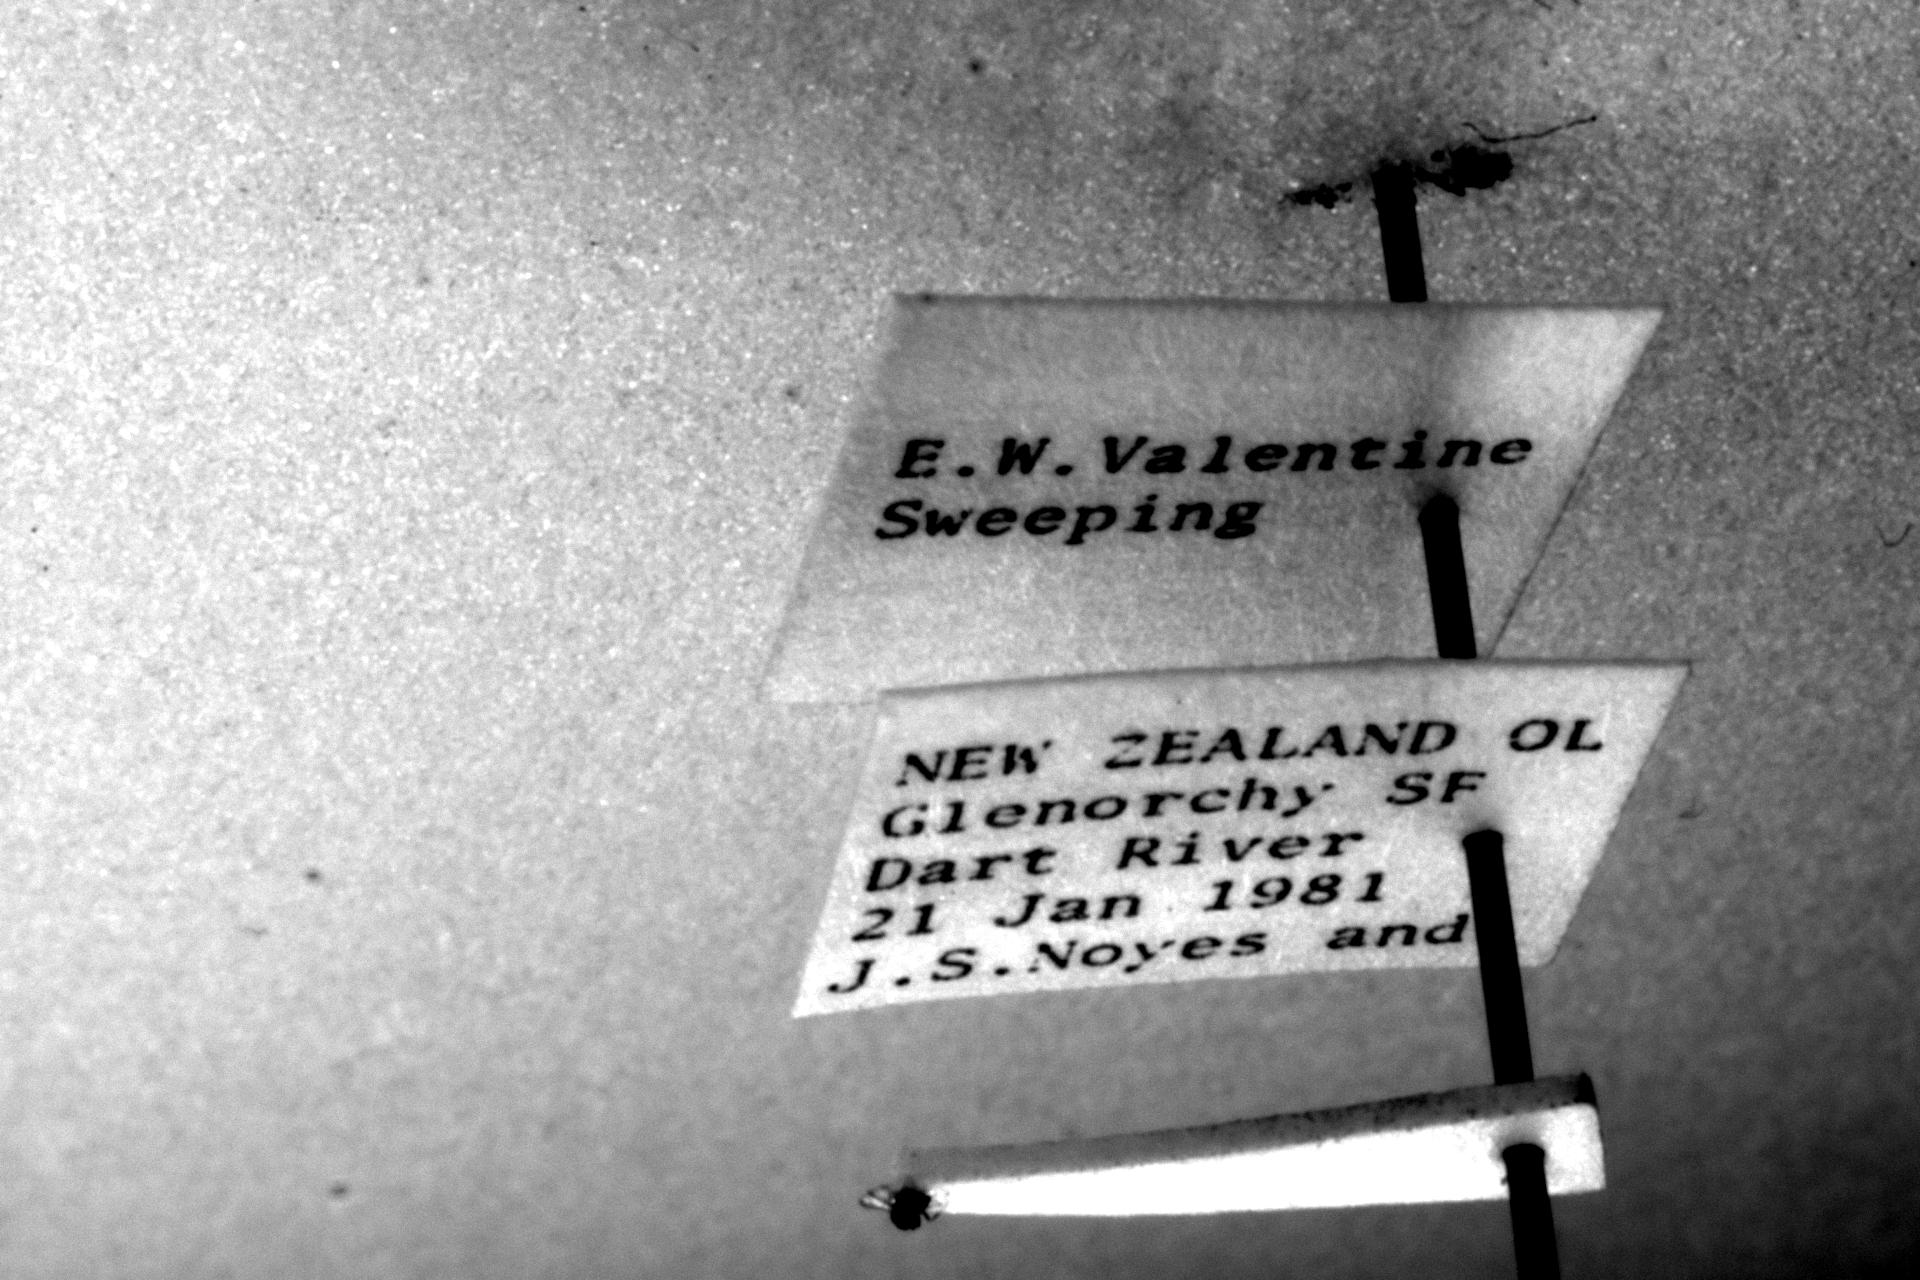typed_label: (765, 296, 1661, 701), (795, 660, 1688, 1016)
